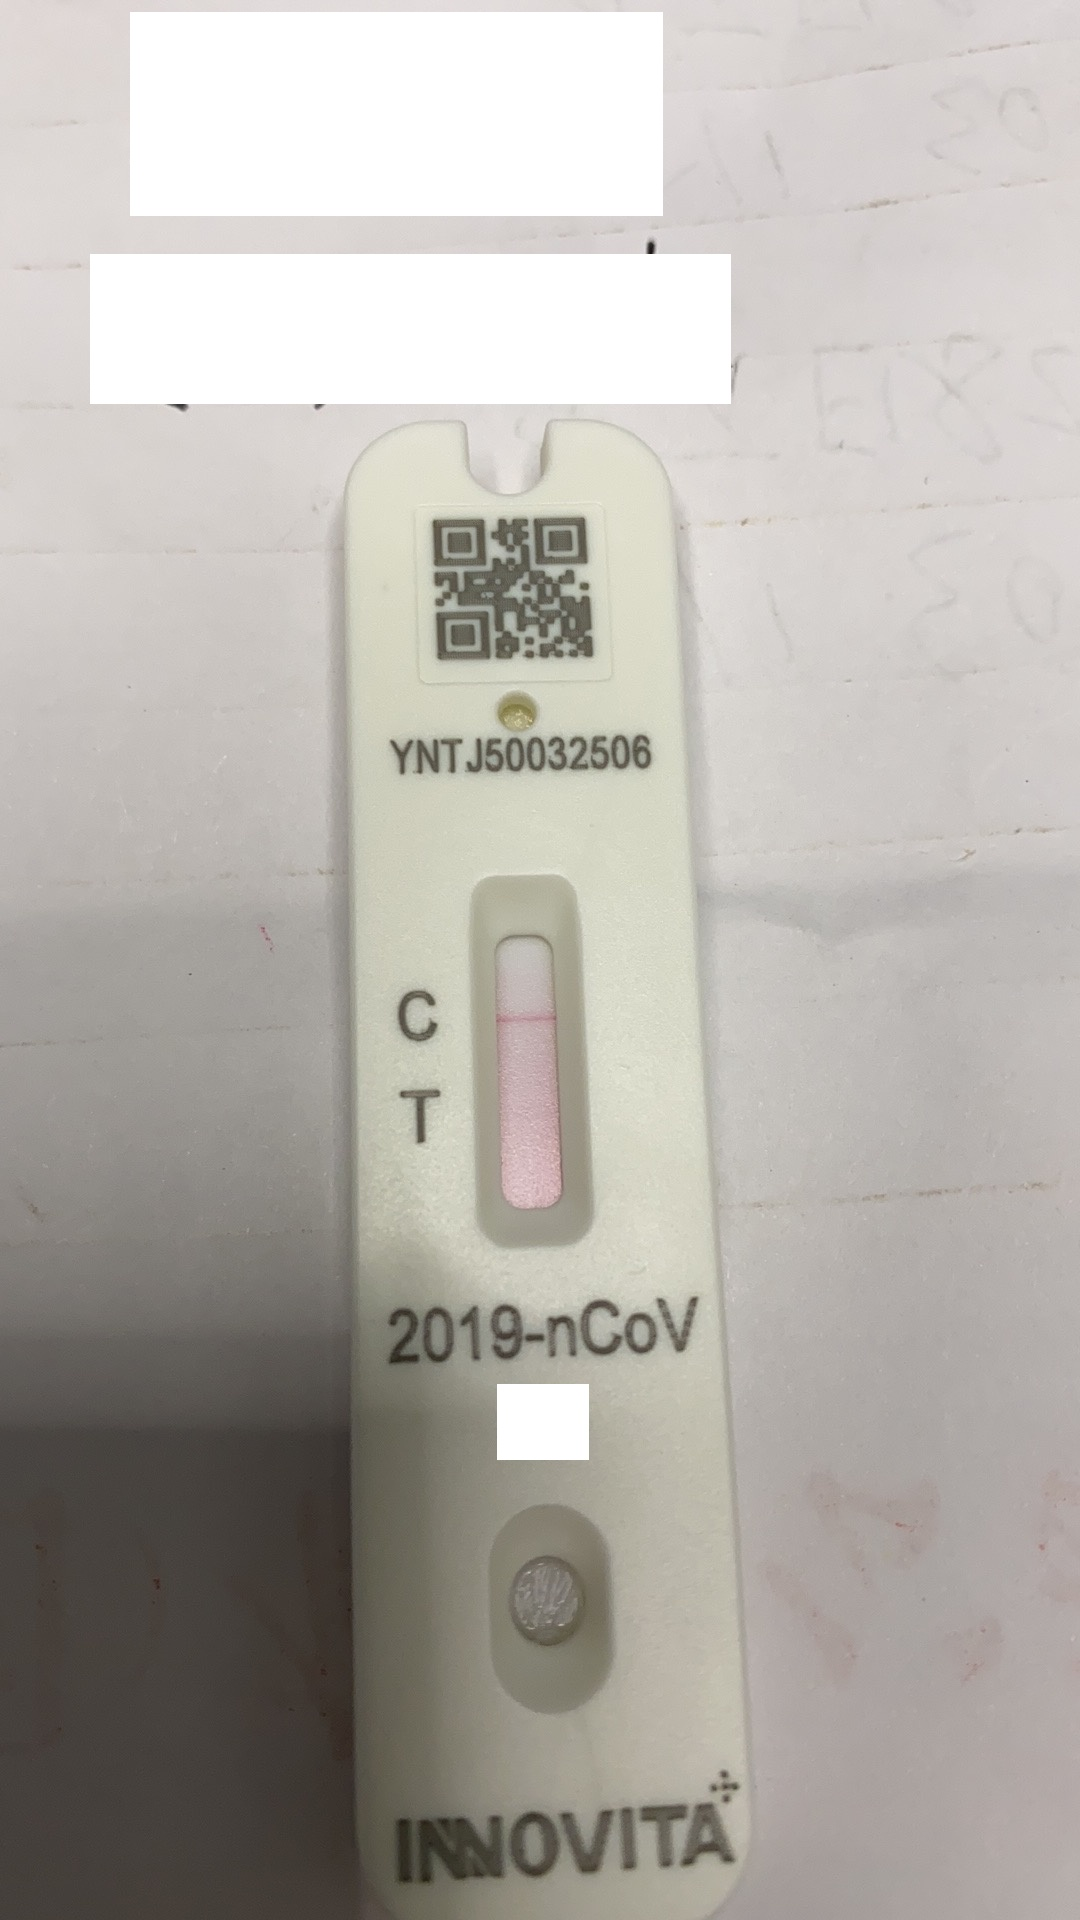negative: (465, 880, 597, 1273)
